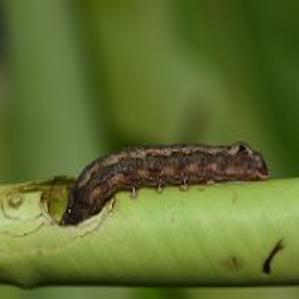Tobacco cutworm: (36, 104, 289, 251)
